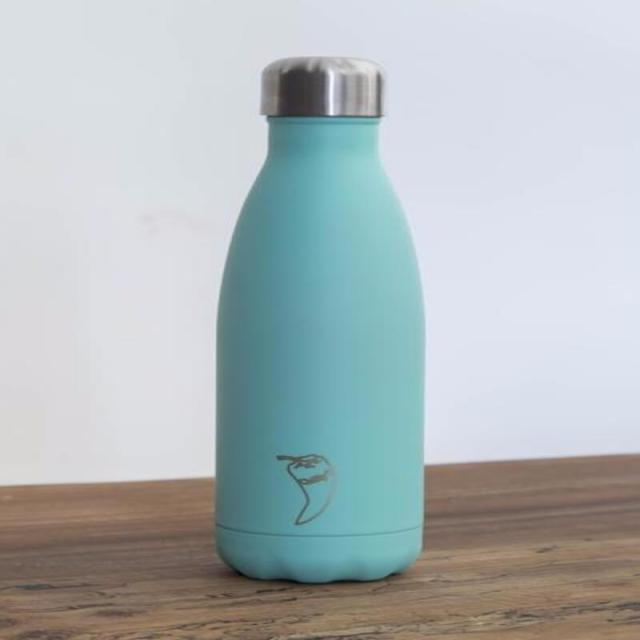gym bottle: (207, 53, 436, 587)
